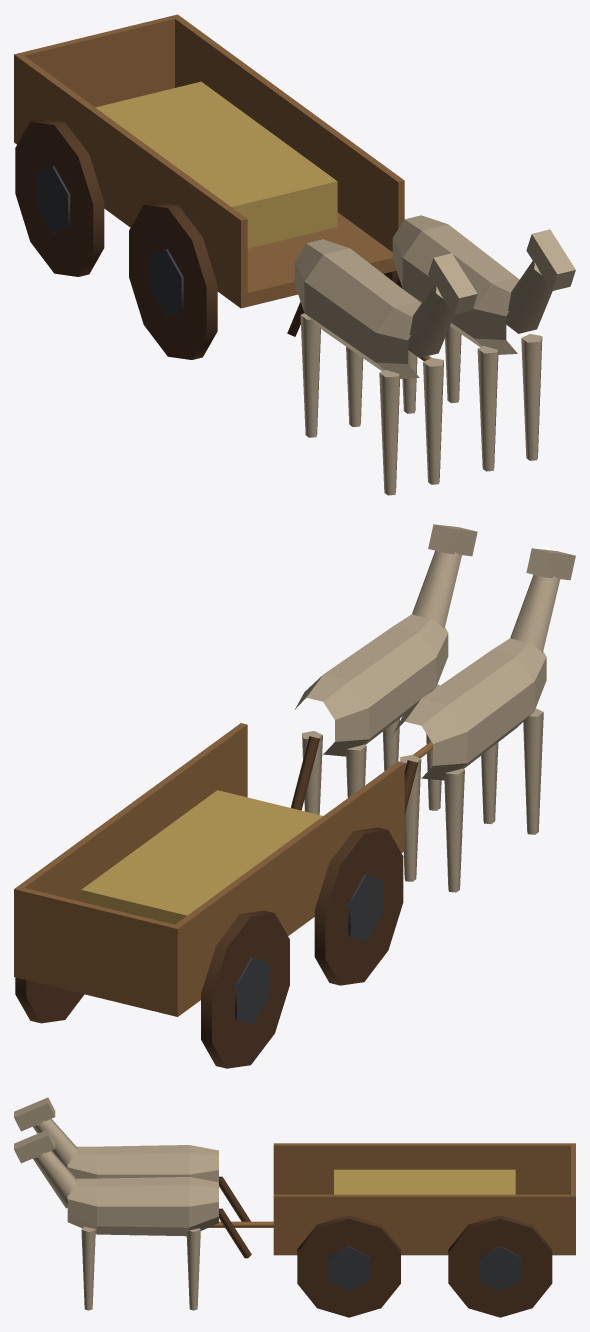
File: veh_ground_wagon_a02.glb
3 views of the same model, one above another, from view 1: azimuth 30°, elevation 25°; view 2: azimuth 150°, elevation 25°; view 3: azimuth 270°, elevation 25° (orthographic). The views are drawn at different scales.
Parts seen in each view (by area): view 1: body, animal_0, animal_1, wheel_0, wheel_2; view 2: body, animal_0, animal_1, wheel_2, wheel_0, wheel_1; view 3: body, animal_1, wheel_1, wheel_3, animal_0.
Boxes of the visible parts, x1,y1,x2,y2 form: body: (14, 14, 431, 361); animal_0: (287, 239, 477, 495); animal_1: (392, 215, 575, 471); wheel_0: (15, 119, 104, 276); wheel_2: (129, 202, 217, 359); body: (14, 723, 432, 1016); animal_0: (393, 548, 575, 892); animal_1: (291, 524, 477, 814); wheel_2: (314, 827, 403, 985); wheel_0: (201, 910, 289, 1068); wheel_1: (15, 977, 84, 1023); body: (208, 1143, 575, 1255); animal_1: (14, 1129, 251, 1310); wheel_1: (448, 1215, 552, 1317); wheel_3: (297, 1215, 400, 1317); animal_0: (14, 1097, 250, 1221).
Size of what is drawn, in the model's own units: 1.84 by 2.23 by 6.69.
